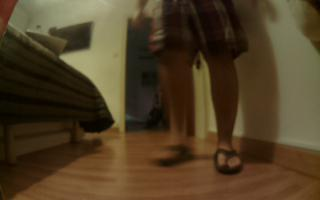person: (124, 1, 270, 183)
